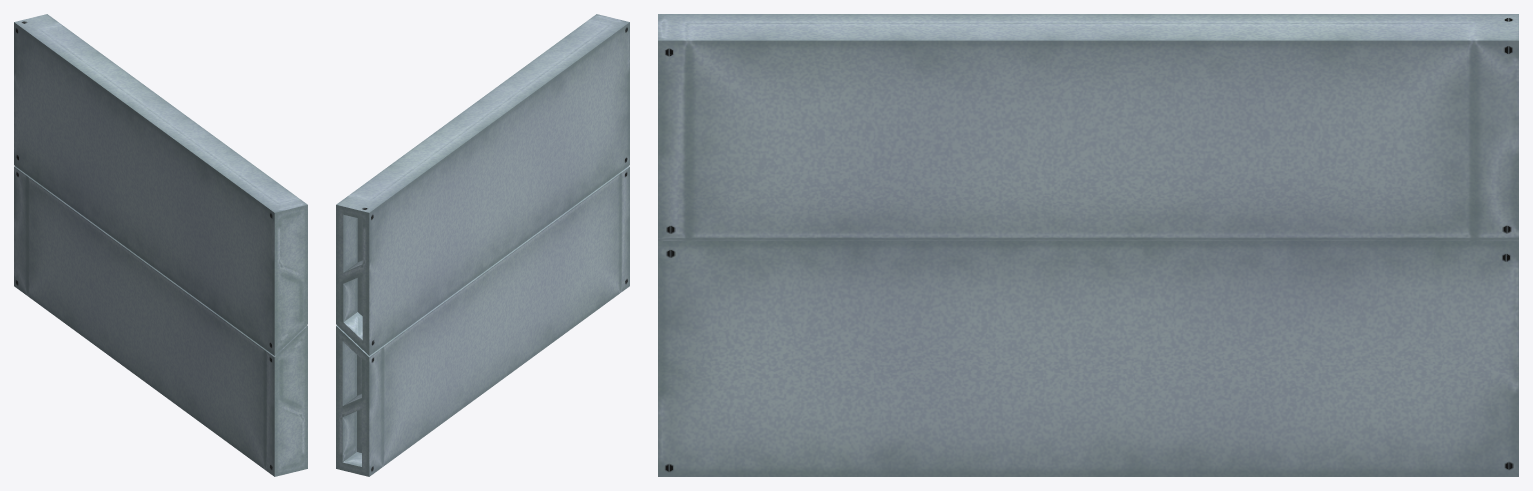
The picture shows the model from 3 angles, left to right: view 1: azimuth 30°, elevation 25°; view 2: azimuth 150°, elevation 25°; view 3: azimuth 270°, elevation 25°; orthographic projection. The views are drawn at different scales.
Parts seen in each view (by area): view 1: 立方體_006; view 2: 立方體_006; view 3: 立方體_006.
Boxes of the visible parts, <box> form: 立方體_006: <box>14,14,307,476</box>; 立方體_006: <box>336,14,629,476</box>; 立方體_006: <box>658,14,1518,476</box>.
Size of the model in its own units: 69.66 by 528 by 945.
